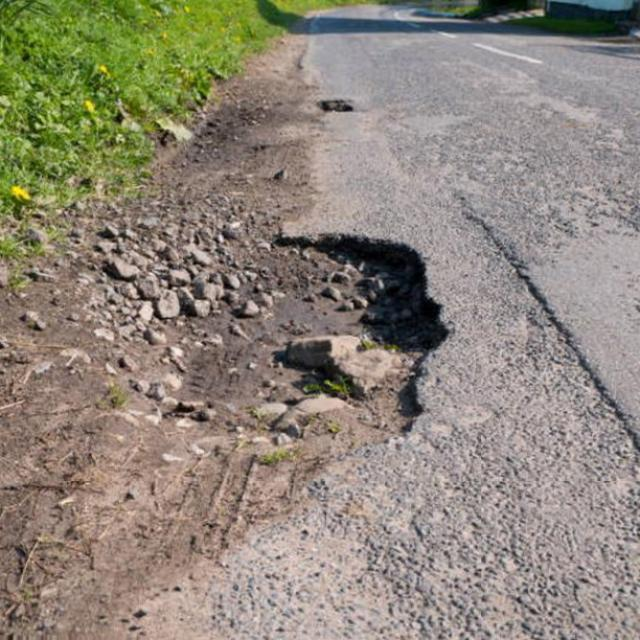Pinggir: (197, 226, 456, 506)
